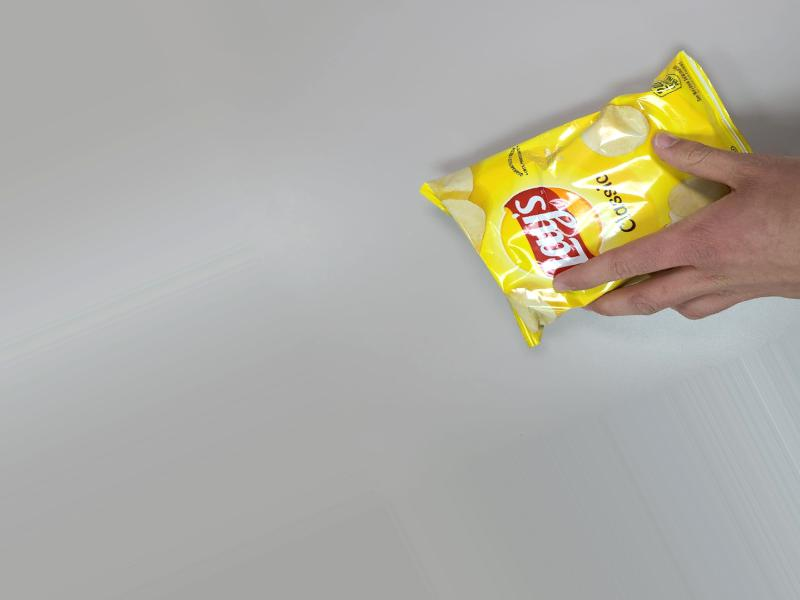lays: (424, 74, 764, 342)
